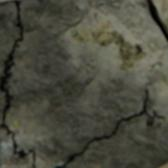brick: (5, 0, 167, 167), (0, 0, 20, 75), (0, 126, 33, 167), (0, 89, 7, 122)
crack: (55, 87, 163, 167), (0, 0, 35, 167), (144, 0, 167, 42)
